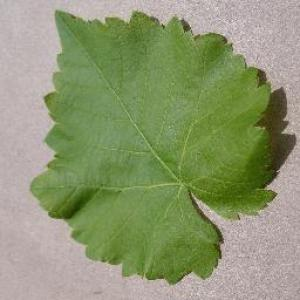Folha: (28, 8, 279, 285)
